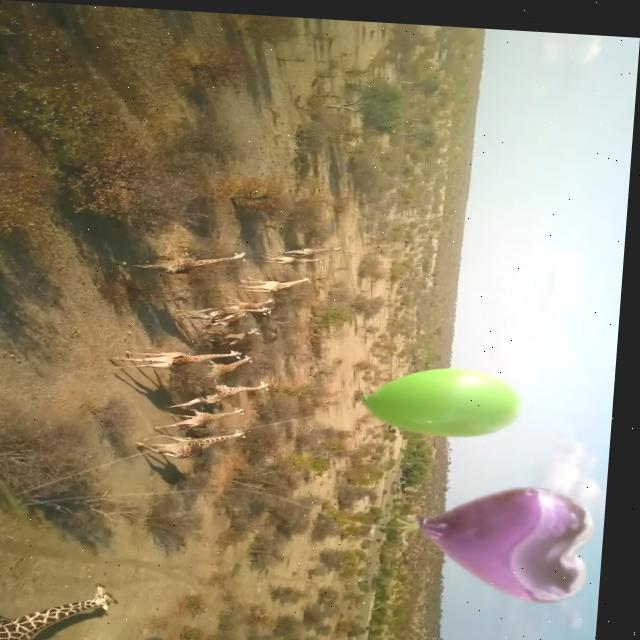balloon: (426, 477, 604, 598), (365, 364, 518, 433)
